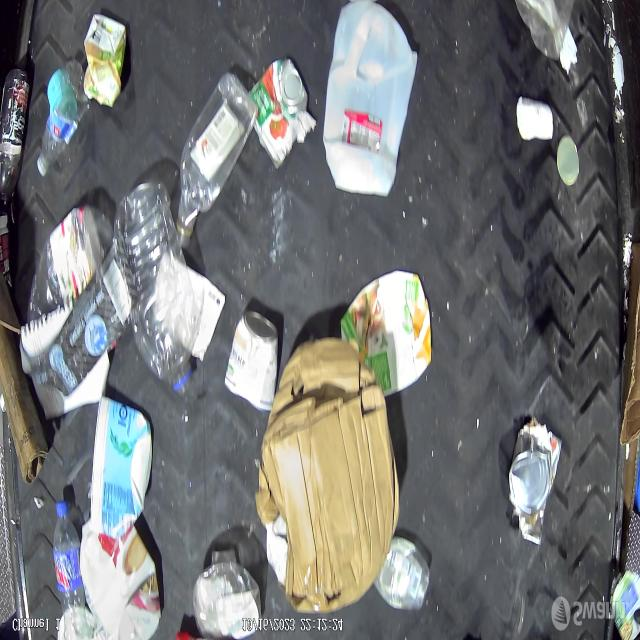can: (249, 57, 309, 171), (225, 306, 282, 411), (508, 420, 560, 532)
milk_jug: (324, 2, 418, 199)
non_white_jug: (80, 520, 162, 639)
plastic_bottle: (111, 180, 195, 397), (174, 71, 254, 248), (22, 204, 106, 360), (34, 61, 89, 181), (192, 549, 261, 640), (0, 70, 31, 210), (374, 536, 431, 612), (51, 502, 86, 617)
